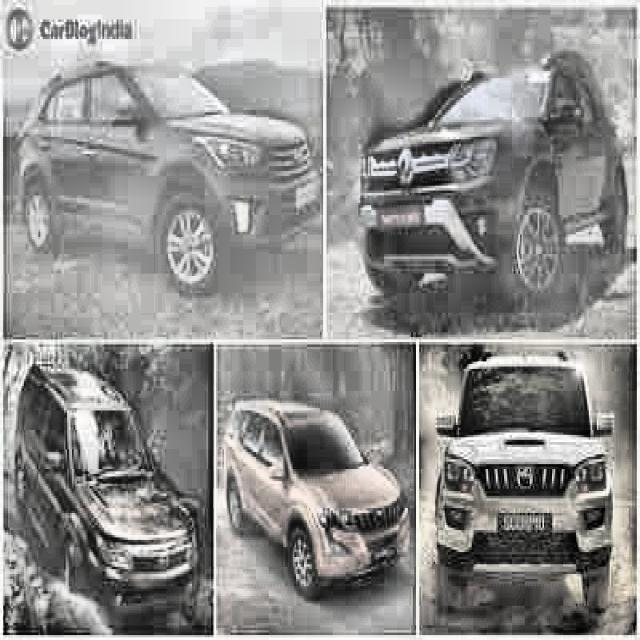license_plate: (377, 201, 426, 236), (500, 511, 551, 541)
